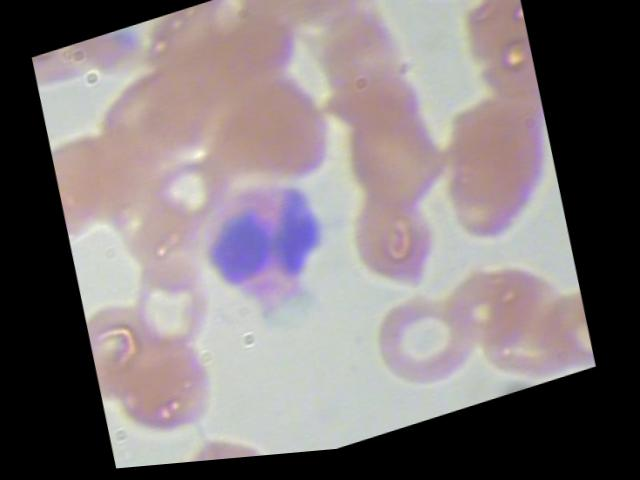Red Blood Cells: (426, 89, 570, 267), (330, 95, 461, 234), (441, 247, 575, 379), (225, 63, 344, 200), (369, 284, 488, 419), (114, 323, 228, 450), (342, 190, 455, 317), (127, 246, 228, 367), (141, 146, 243, 249), (160, 420, 285, 467), (365, 0, 508, 35)
White Blood Cells: (189, 170, 340, 340)
